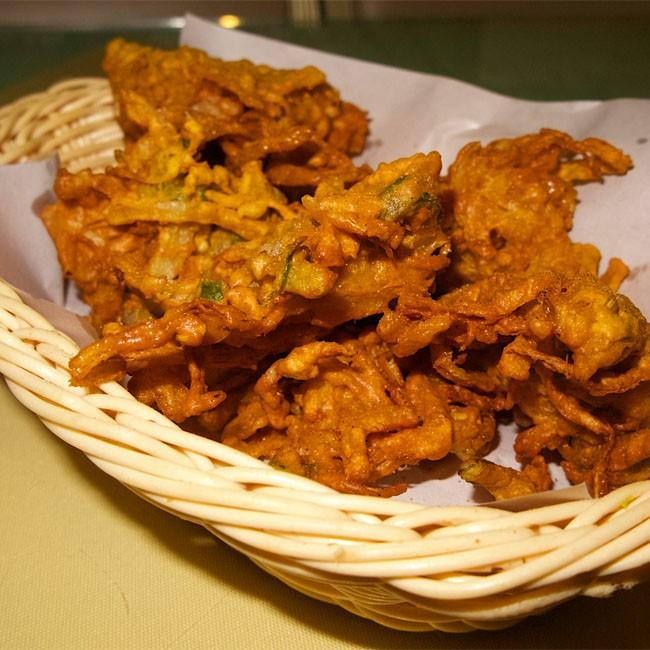OnionPakoda: (35, 35, 650, 497)
